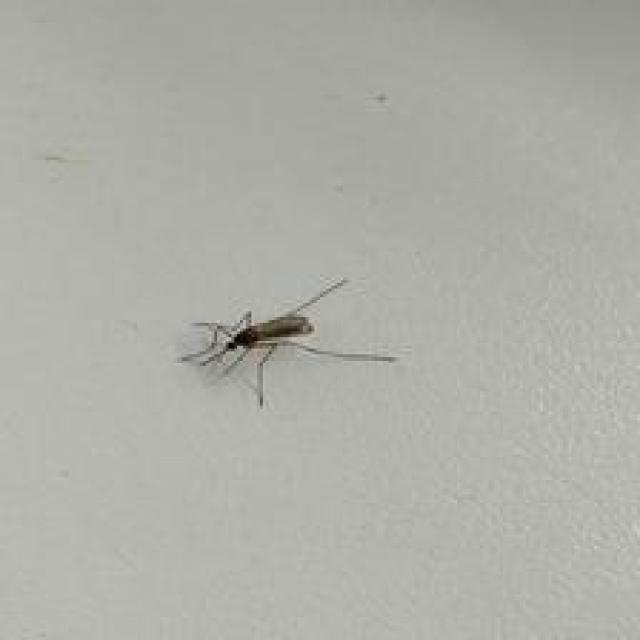Culex: (177, 274, 397, 409)
